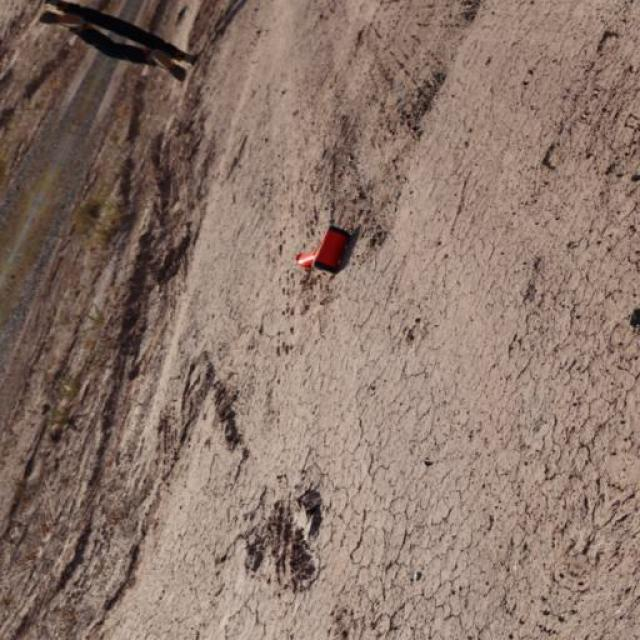mallet: (294, 222, 351, 274)
